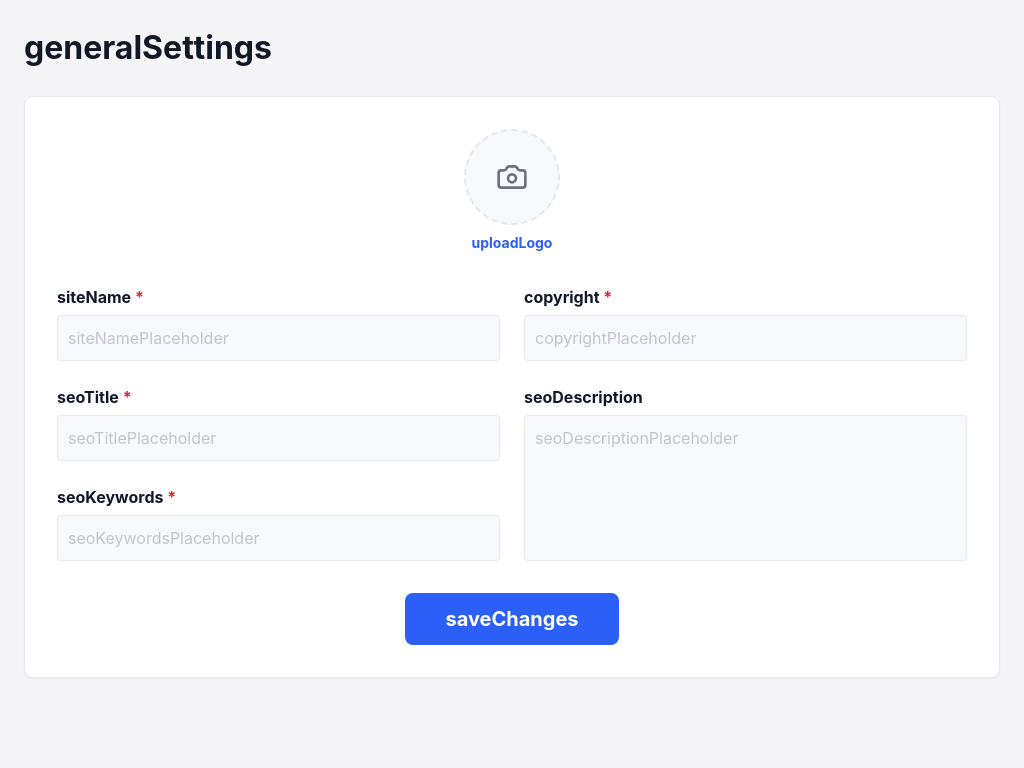
Test case: Settings › save behavior › shows success toast after save completes
# Fill required fields
In the field labelled "siteName *": x=278, y=338 [57, 315, 500, 361], type "My Site"
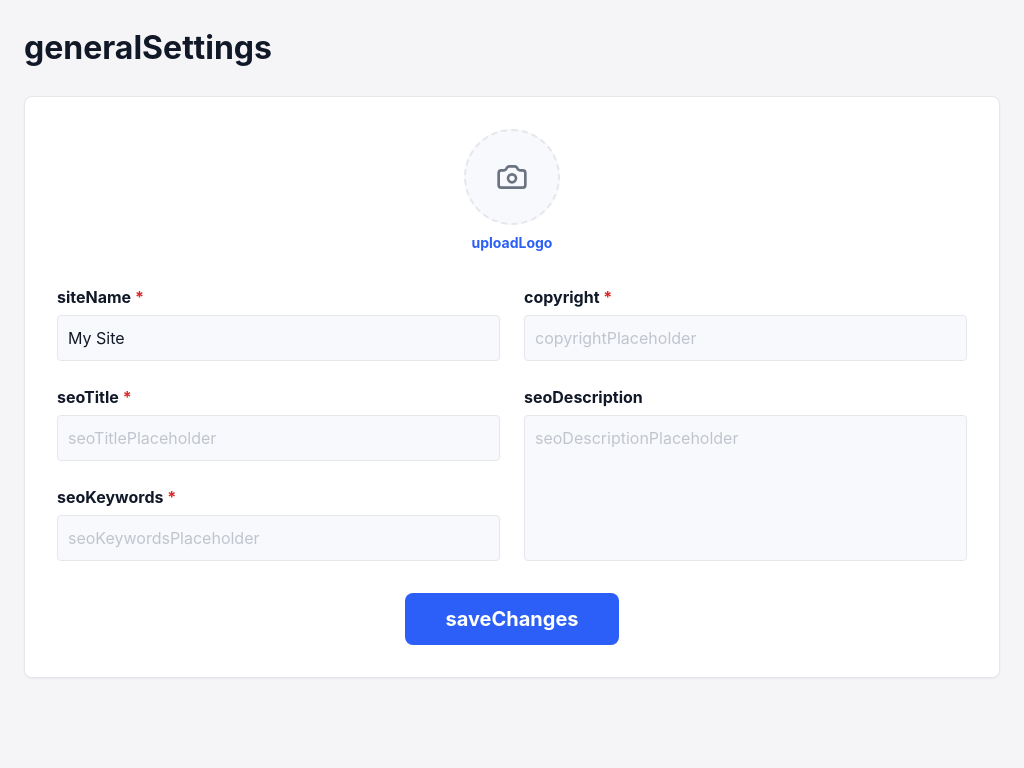
In the field labelled "copyright *": x=746, y=338 [524, 315, 967, 361], type "2026 My Company"
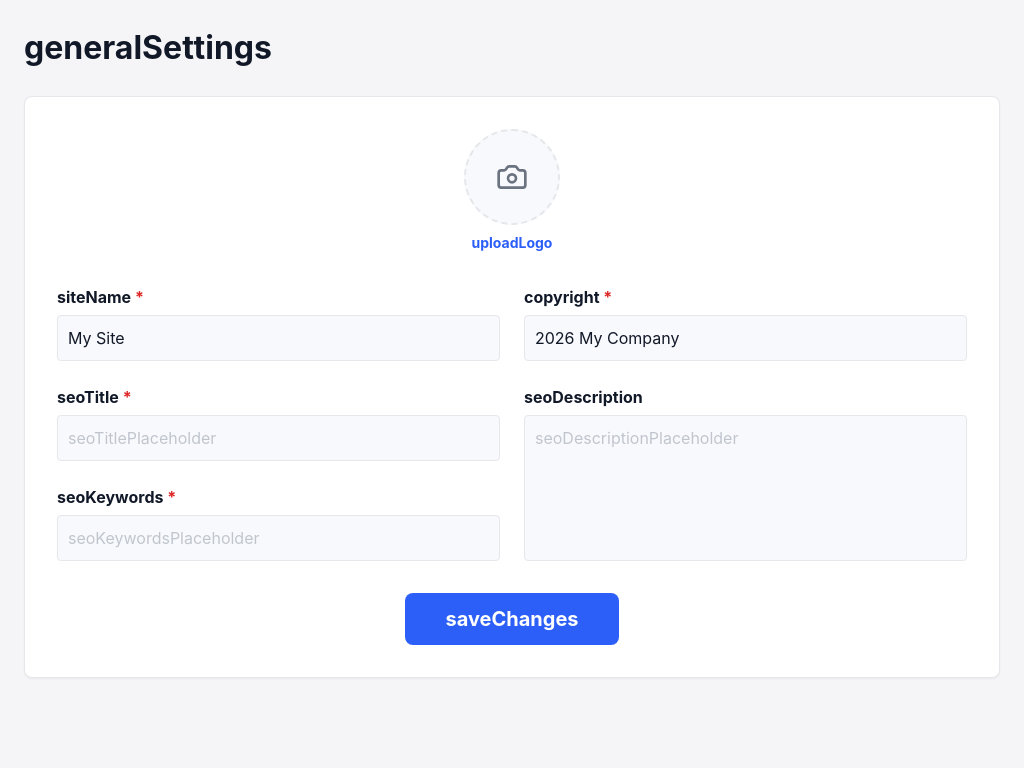
In the field labelled "seoTitle *": x=278, y=438 [57, 415, 500, 461], type "My SEO Title"
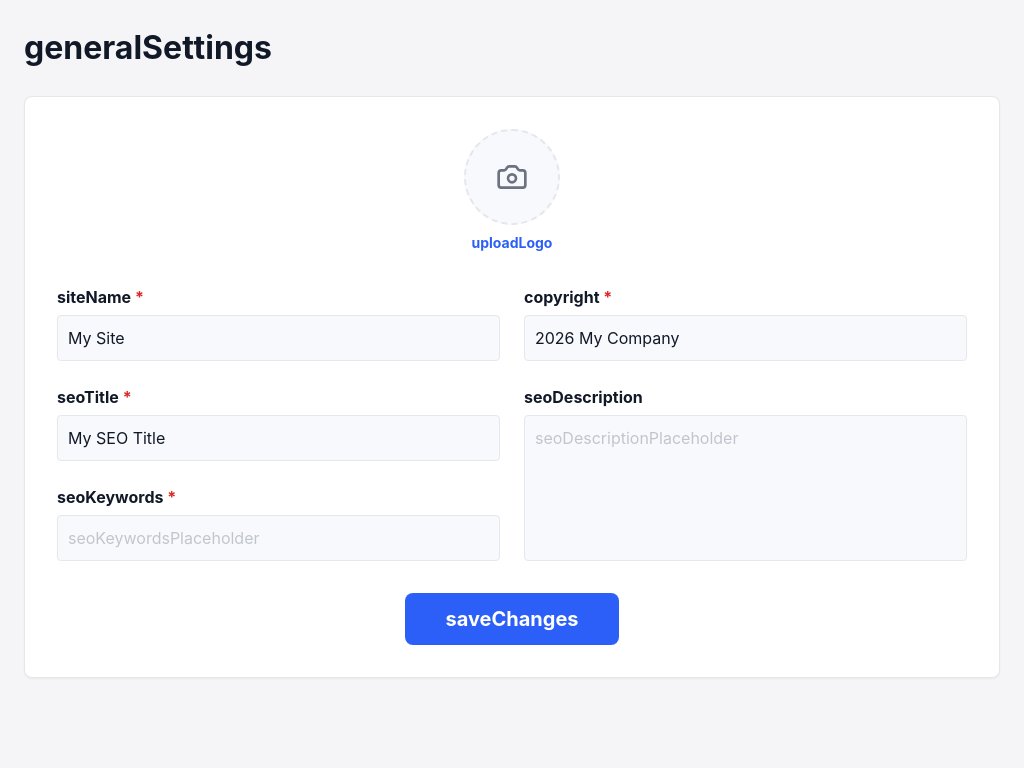
In the field labelled "seoKeywords *": x=278, y=538 [57, 515, 500, 561], type "dashboard, admin"
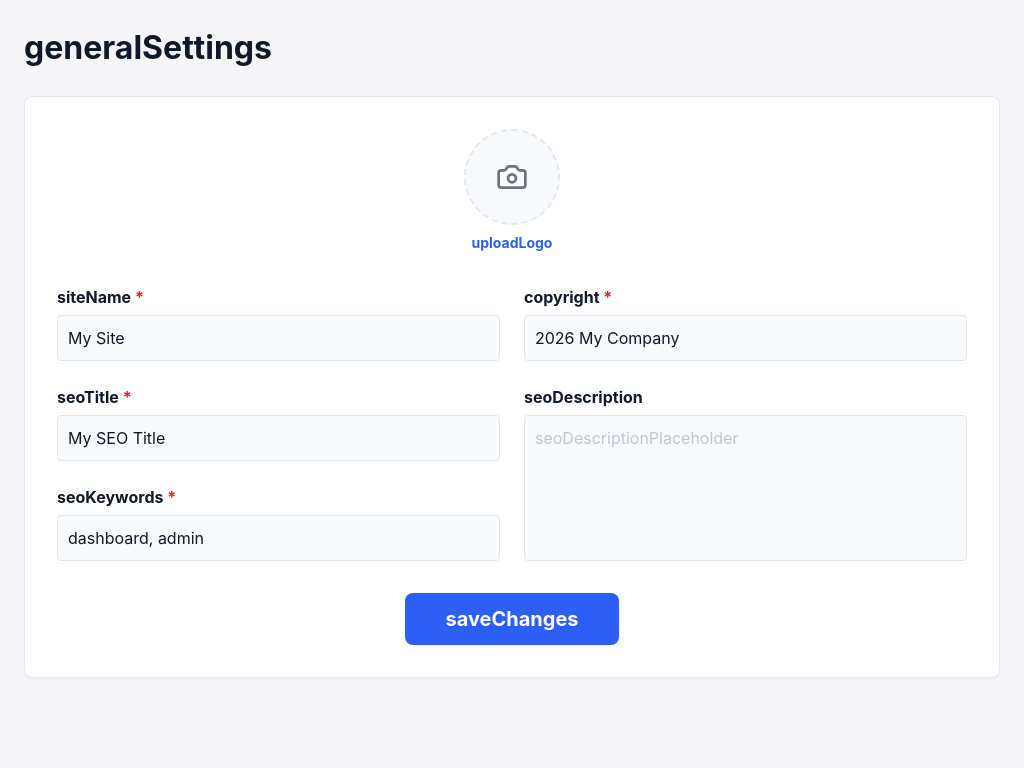
Click the button "saveChanges": x=512, y=619 [406, 593, 619, 645]
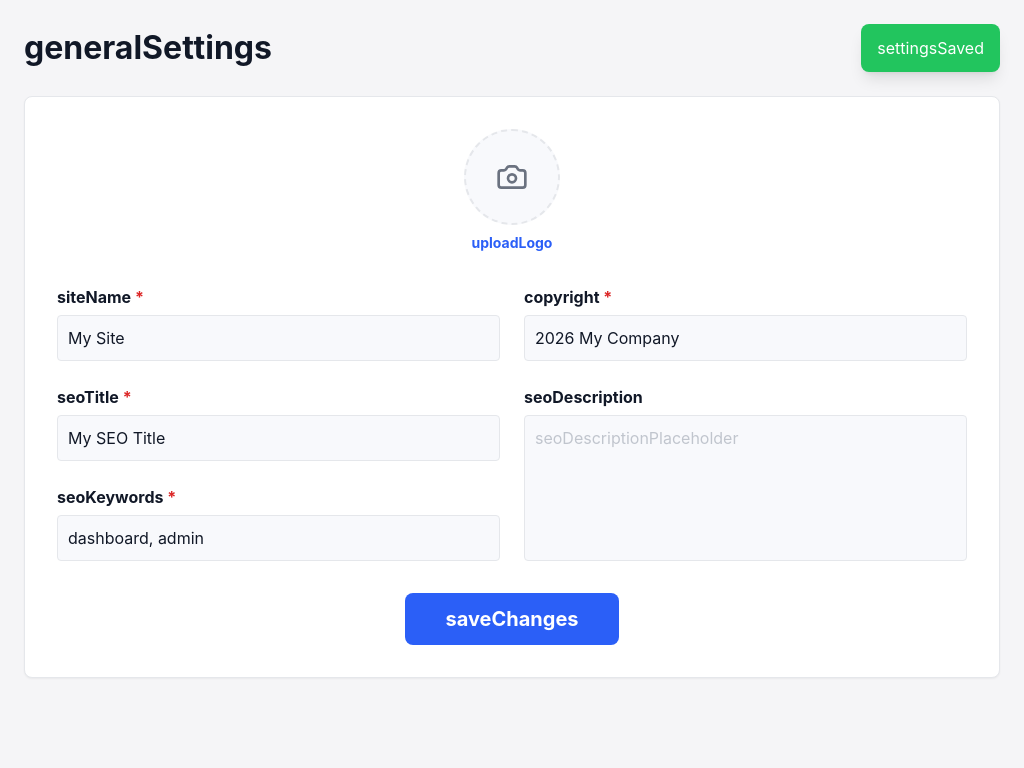
Result: the text "settingsSaved" is shown at [861, 24, 1000, 72]
